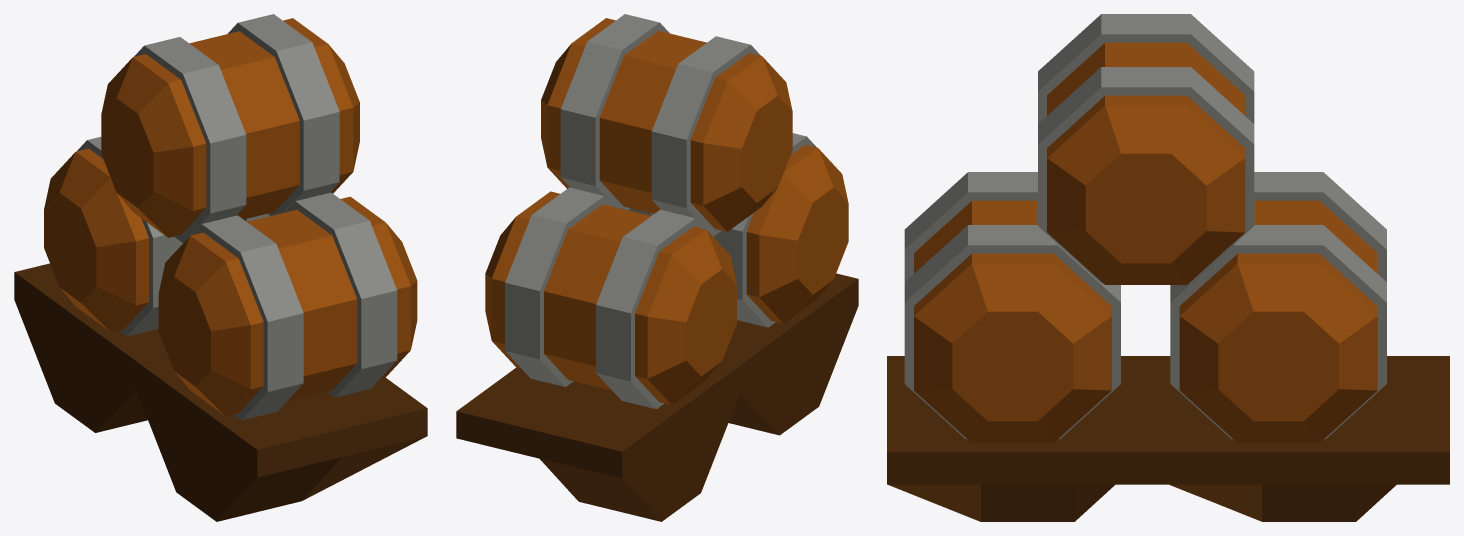
File: ShelfWithBarrels.fbx
The picture shows the model from 3 angles, left to right: view 1: azimuth 30°, elevation 25°; view 2: azimuth 150°, elevation 25°; view 3: azimuth 270°, elevation 25°; orthographic projection. The views are drawn at different scales.
Parts seen in each view (by area): view 1: Cylinder, Cylinder.002, Cube, Cylinder.001; view 2: Cylinder.001, Cylinder.002, Cube, Cylinder; view 3: Cube, Cylinder.002, Cylinder, Cylinder.001.
Part boxes in pixels (left/top/right/bottom): Cylinder: left=158, top=192, right=417, bottom=420; Cylinder.002: left=101, top=14, right=359, bottom=242; Cube: left=14, top=263, right=427, bottom=521; Cylinder.001: left=44, top=137, right=269, bottom=336; Cylinder.001: left=485, top=187, right=736, bottom=409; Cylinder.002: left=541, top=14, right=792, bottom=236; Cube: left=456, top=273, right=858, bottom=521; Cylinder: left=628, top=133, right=848, bottom=327; Cube: left=887, top=356, right=1449, bottom=521; Cylinder.002: left=1038, top=14, right=1254, bottom=284; Cylinder: left=904, top=172, right=1120, bottom=442; Cylinder.001: left=1170, top=172, right=1386, bottom=442.
Size of the model in its own units: 339 by 637 by 691.
